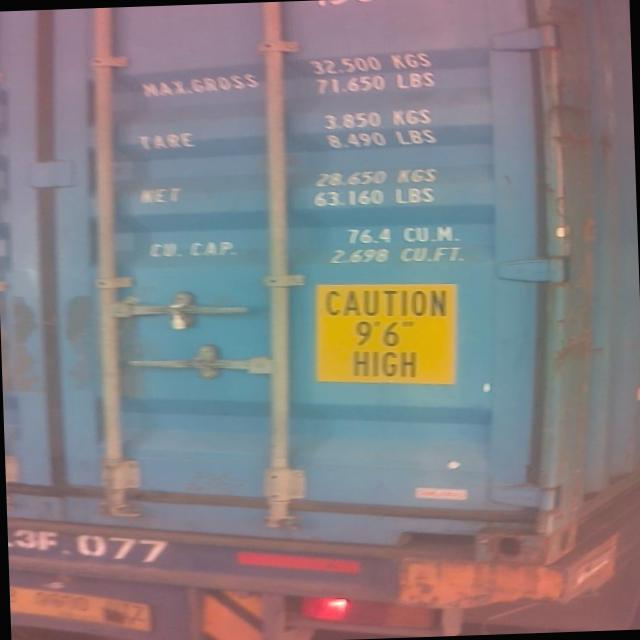seal: (160, 295, 193, 333)
